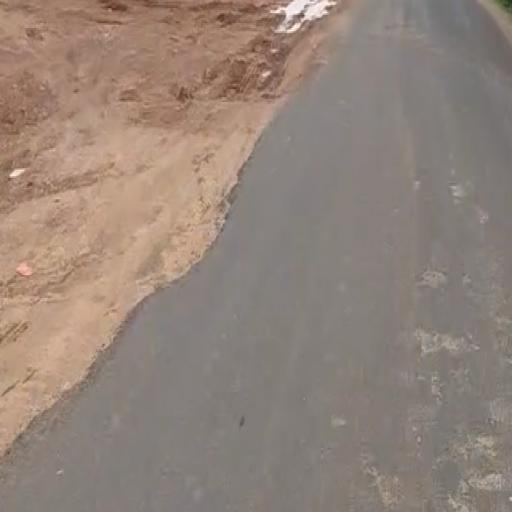edge_damage: (8, 92, 308, 487)
